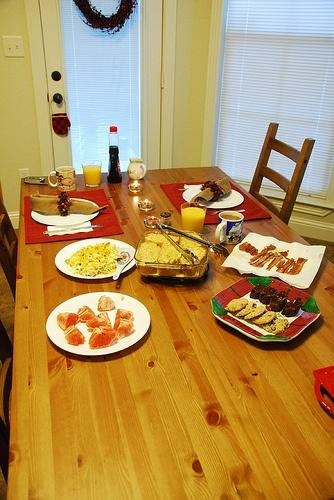bottle: (104, 126, 120, 185)
chair: (251, 123, 318, 223), (1, 322, 14, 468), (1, 192, 20, 288)
diningtable: (14, 162, 334, 500)
